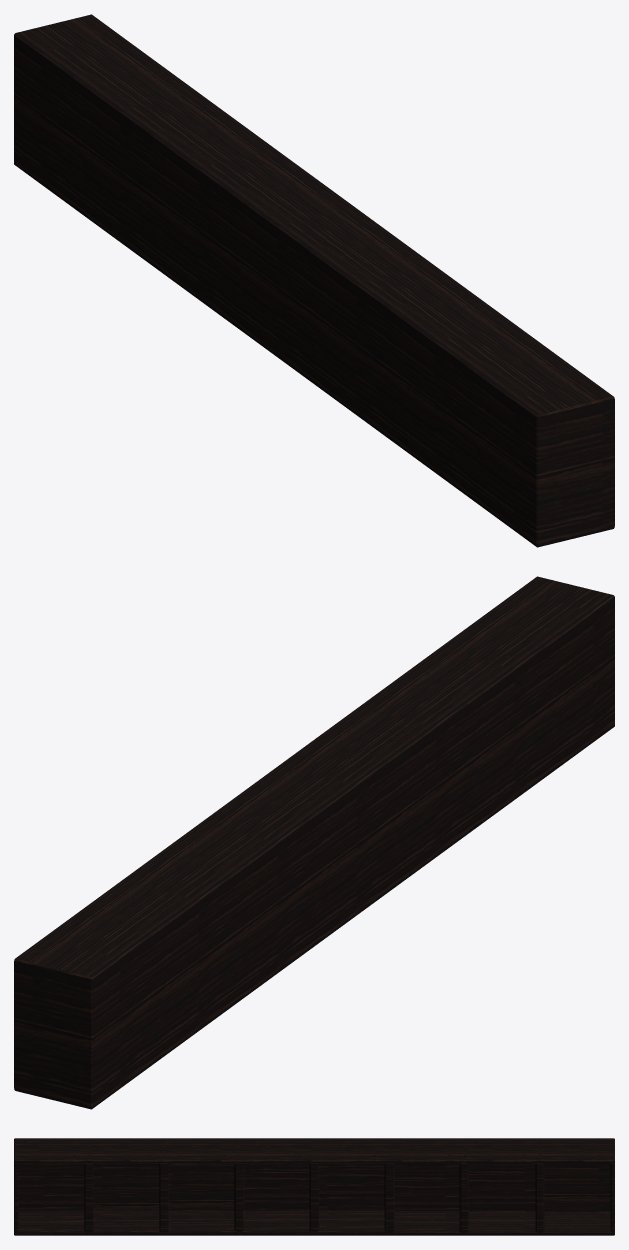
The model's file is bookshelf1.fbx.
The picture shows the model from 3 angles, top to bottom: view 1: azimuth 30°, elevation 25°; view 2: azimuth 150°, elevation 25°; view 3: azimuth 270°, elevation 25°; orthographic projection. The views are drawn at different scales.
Parts seen in each view (by area): view 1: pCube2; view 2: pCube2; view 3: pCube2.
Boxes of the visible parts, x1,y1,x2,y2 form: pCube2: (14, 14, 614, 547); pCube2: (14, 576, 614, 1109); pCube2: (14, 1138, 614, 1235).
Bounding box in the file's own units: 0.005 × 0.008 × 0.0573.
1 material, 1 textured.
